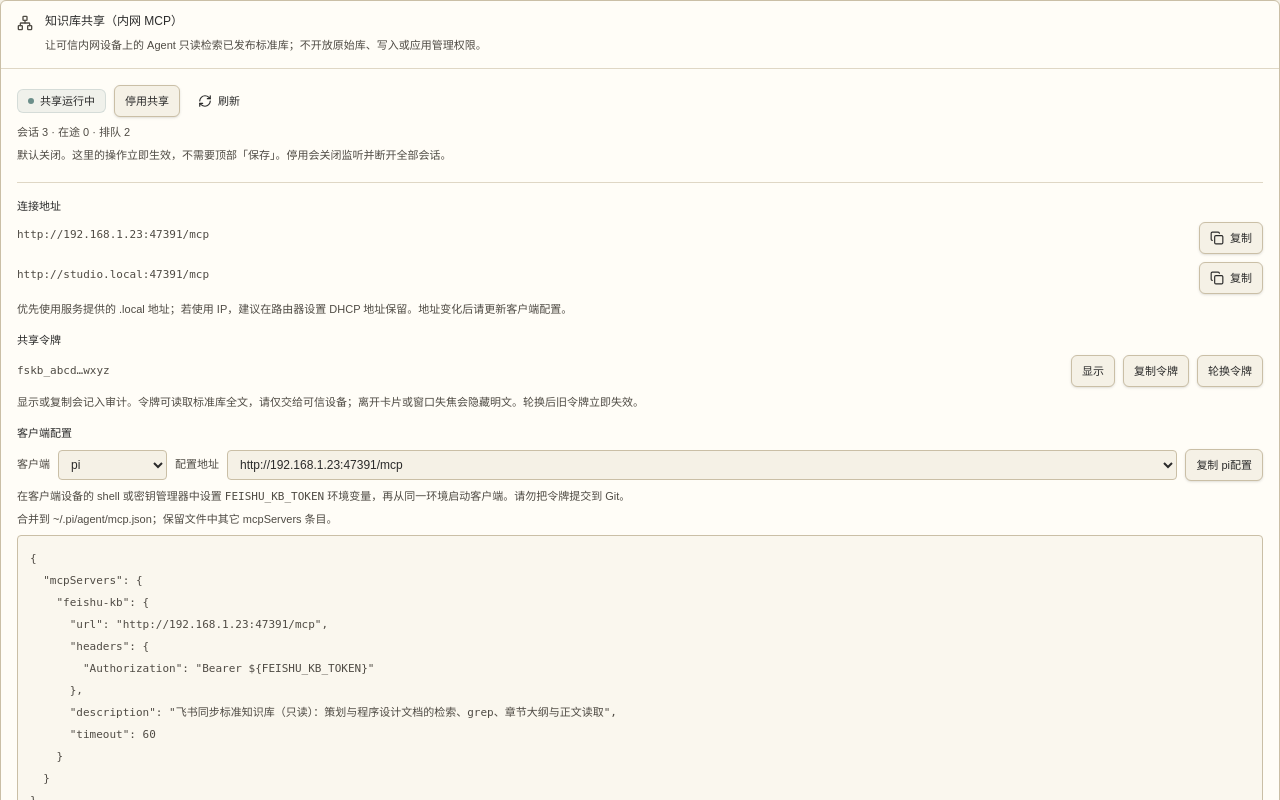
Test: 内网 MCP 设置交互（模拟管理 API） › 复制失败明确反馈，不将异常或令牌写入反馈
Click the button "复制令牌": (1156, 371) [1123,355,1189,387]
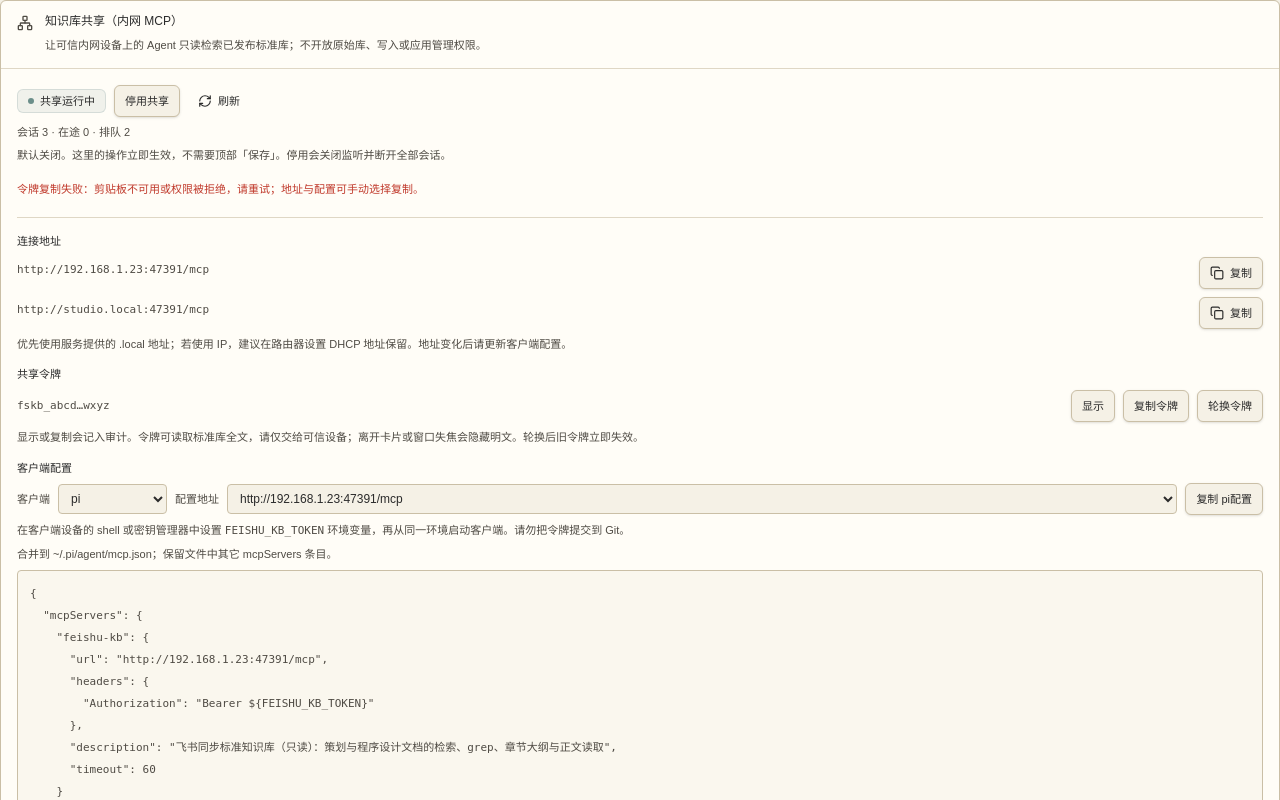
Expected: the text "令牌复制失败" is shown, [17,184,424,196]
